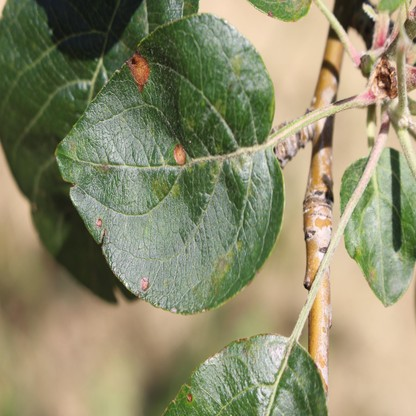rust: (127, 53, 148, 92), (173, 144, 185, 164), (140, 276, 148, 290), (95, 217, 103, 226), (187, 392, 192, 400)
scab: (184, 58, 242, 179), (191, 252, 233, 298), (149, 178, 179, 200), (233, 156, 248, 171), (98, 159, 110, 175)
